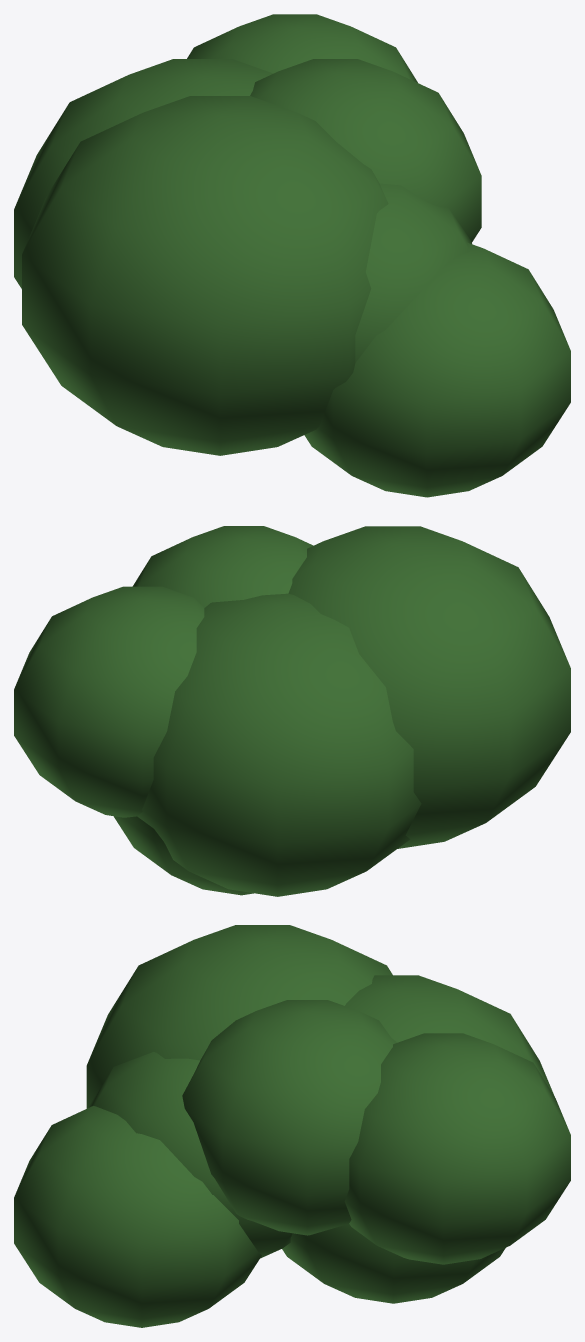
File: bush-2.glb
The picture shows the model from 3 angles, top to bottom: view 1: azimuth 30°, elevation 25°; view 2: azimuth 150°, elevation 25°; view 3: azimuth 270°, elevation 25°; orthographic projection. The views are drawn at different scales.
Parts seen in each view (by area): view 1: bush-2; view 2: bush-2; view 3: bush-2.
Part boxes in pixels (<box>): bush-2: <box>14,14,570,497</box>; bush-2: <box>14,526,570,896</box>; bush-2: <box>14,925,570,1327</box>.
Size of the model in its own units: 1.48 by 1.06 by 1.72.
